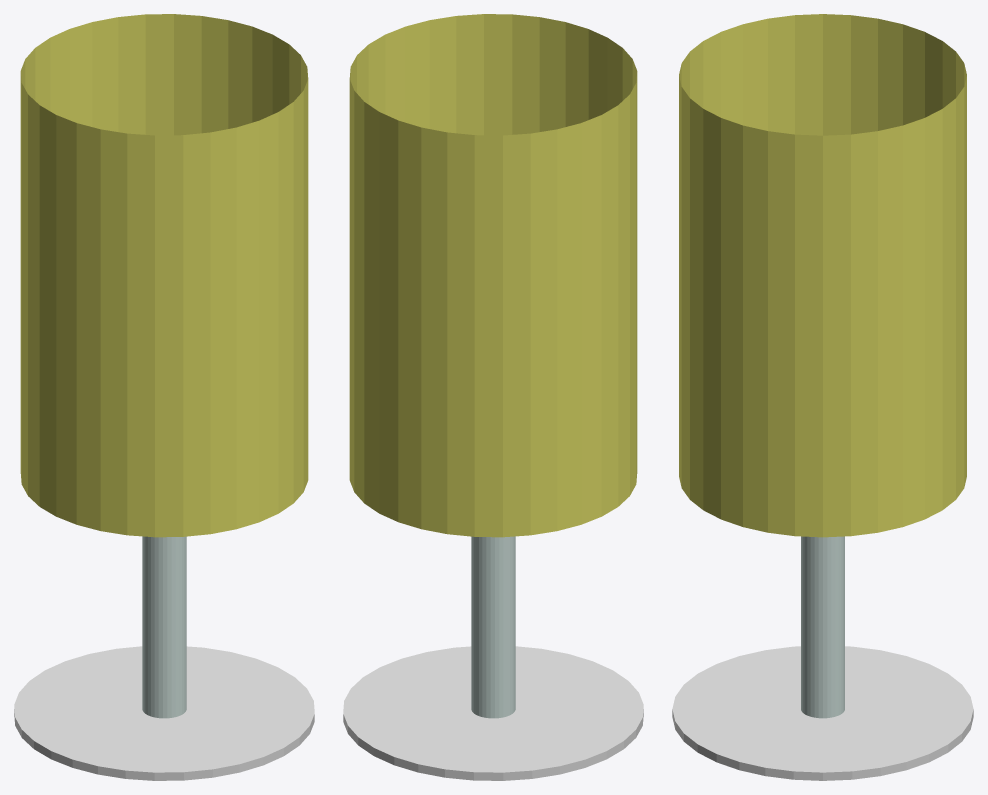
File: Small lamp.fbx
3 renders of one model, left to right at view 1: azimuth 30°, elevation 25°; view 2: azimuth 150°, elevation 25°; view 3: azimuth 270°, elevation 25°, orthographic.
Parts seen in each view (by area): view 1: Lamp, Base, Leg; view 2: Lamp, Base, Leg; view 3: Lamp, Base, Leg.
Boxes of the visible parts, left/top/right/bottom form: Lamp: left=20, top=14, right=308, bottom=537; Base: left=14, top=646, right=314, bottom=780; Leg: left=142, top=536, right=186, bottom=718; Lamp: left=349, top=14, right=637, bottom=537; Base: left=343, top=646, right=643, bottom=780; Leg: left=471, top=536, right=515, bottom=718; Lamp: left=679, top=14, right=966, bottom=537; Base: left=672, top=646, right=973, bottom=780; Leg: left=801, top=536, right=844, bottom=718.
Bounding box in the file's own units: 16.88 × 39.73 × 16.88.
